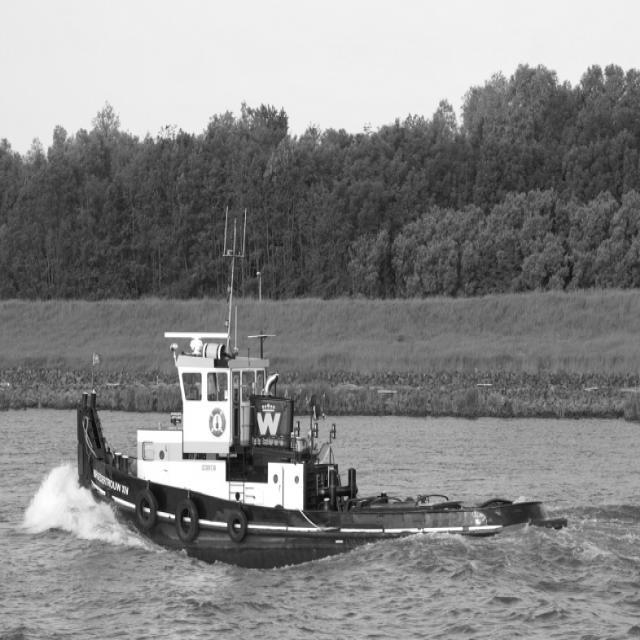tugboat: (71, 201, 580, 591)
